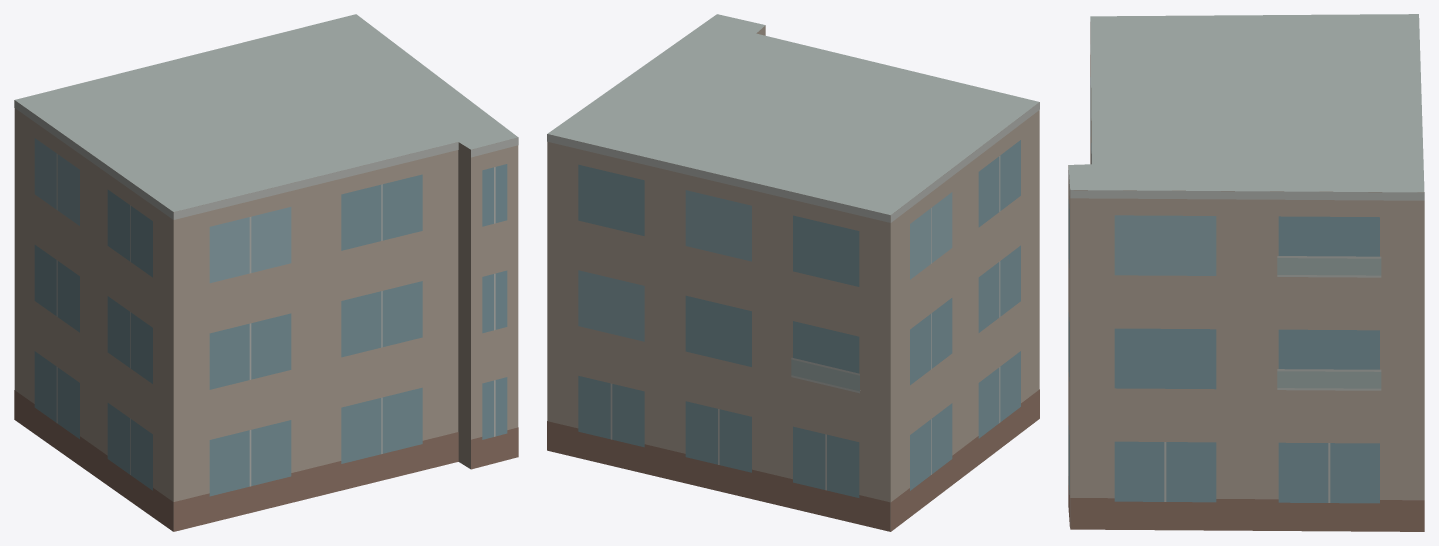
Rendered from survey-upis-32954382.glb.
The picture shows the model from 3 angles, left to right: view 1: azimuth 30°, elevation 25°; view 2: azimuth 150°, elevation 25°; view 3: azimuth 270°, elevation 25°; orthographic projection. The views are drawn at different scales.
Visible parts, largest first — view 1: survey-upis-32954382.tmp; view 2: survey-upis-32954382.tmp; view 3: survey-upis-32954382.tmp.
Boxes of the visible parts, left/top/right/bottom form: survey-upis-32954382.tmp: left=14, top=14, right=518, bottom=531; survey-upis-32954382.tmp: left=547, top=14, right=1039, bottom=531; survey-upis-32954382.tmp: left=1068, top=14, right=1424, bottom=531.
Size of the model in its own units: 11.18 by 9.9 by 9.42.
